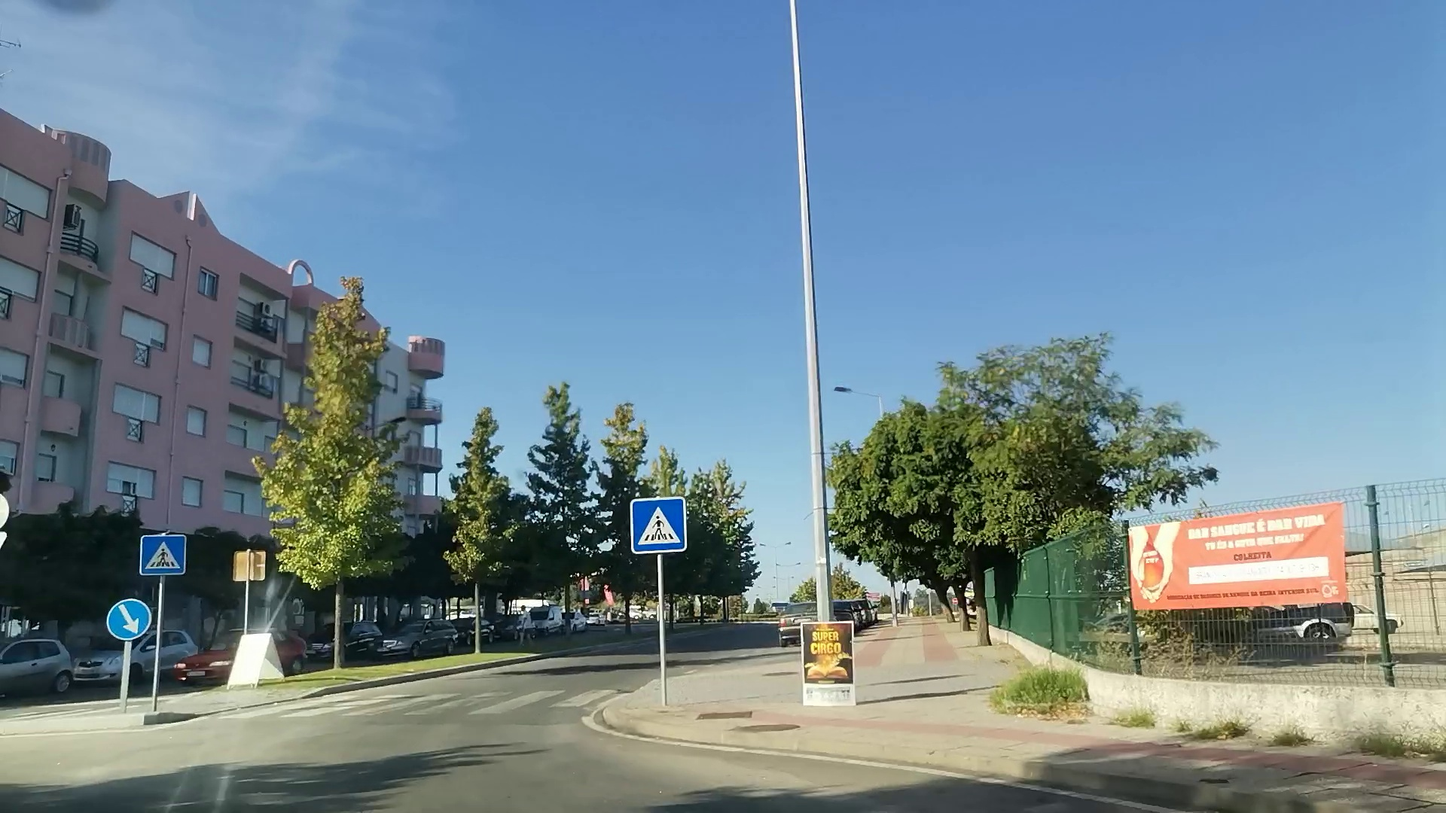Stairs: (284, 682, 616, 725)
